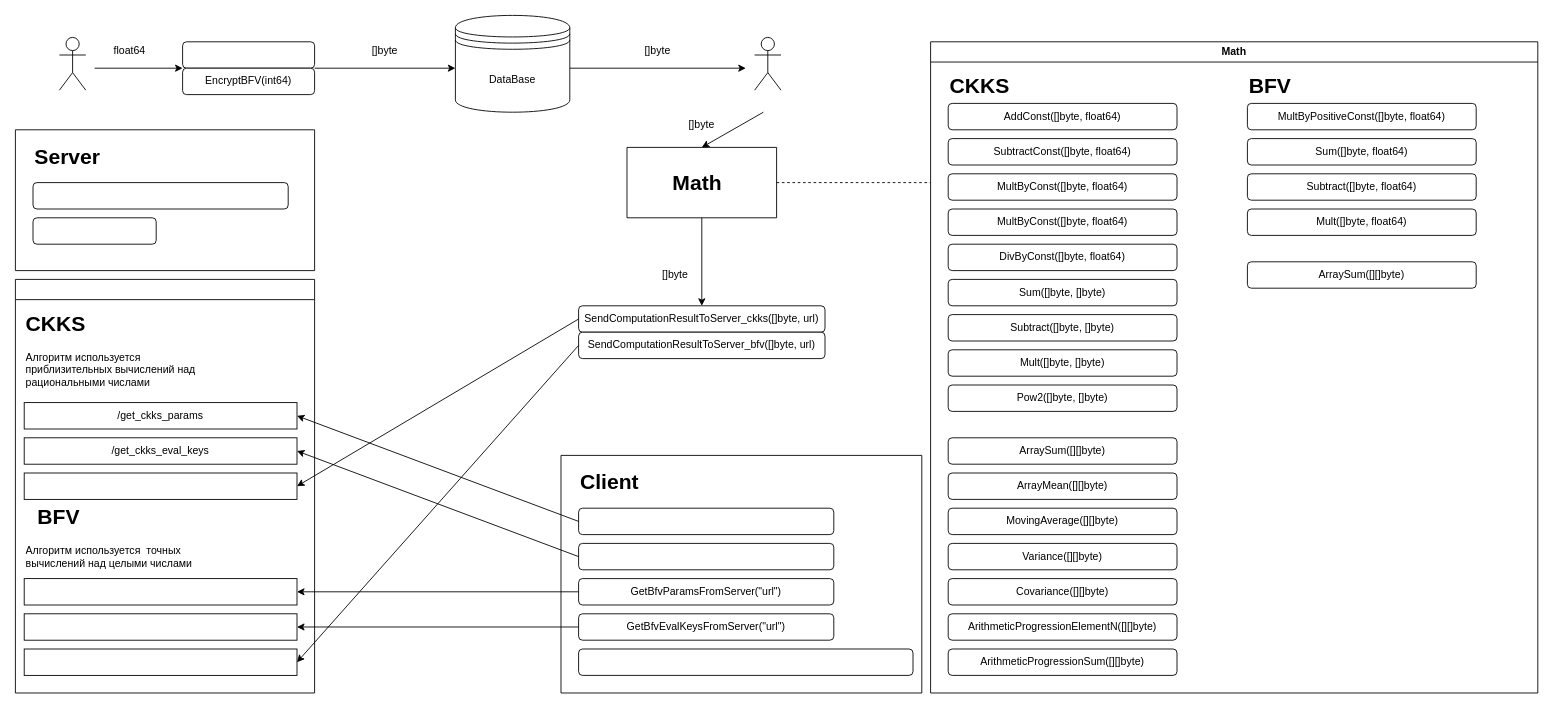
Image size: 1553x708. Some labels were removed from this diagram. The box of each missing label's shape, as (x1, y1, x2, y2) in pixels:
/decrypt_computations_bfv: (23, 648, 297, 675)
/decrypt_computations_ckks: (23, 472, 297, 499)
/get_ckks_eval_keys_bfv: (23, 613, 297, 640)
/get_ckks_params_bfv: (23, 578, 297, 605)
Client Actor: (754, 37, 781, 90)
EncryptCKKS(float64): (182, 41, 315, 68)
GetCkksEvalKeysFromServer("url"): (578, 543, 834, 570)
GetCKKSParamsFromServer("url"): (578, 507, 834, 535)
Server Actor: (59, 37, 86, 90)
Server API: (15, 279, 315, 693)
SetupClient(ckksParams, bfvParameters, ckksEvalKey, bfvEvalKey): (578, 648, 913, 675)
SetupServer("ckksKeys.json", bfvKeys.json"): (32, 182, 288, 209)
StartSecureServer(): (32, 217, 156, 244)
